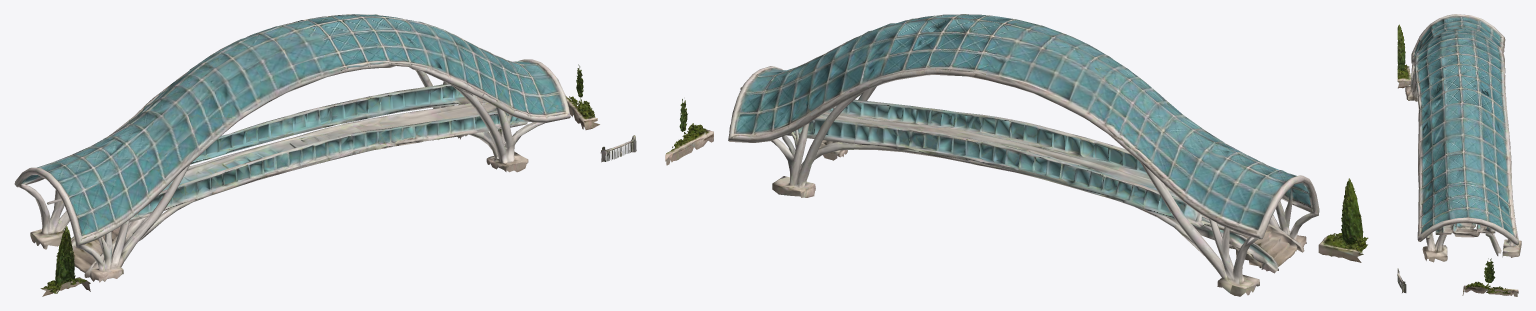
File: m_tb_peace.glb
3 views of the same model, side by side, from view 1: azimuth 30°, elevation 25°; view 2: azimuth 150°, elevation 25°; view 3: azimuth 270°, elevation 25° (orthographic). The views are drawn at different scales.
Size of the model in its own units: 1 by 0.2829 by 0.2324.
1 material, 1 textured.
